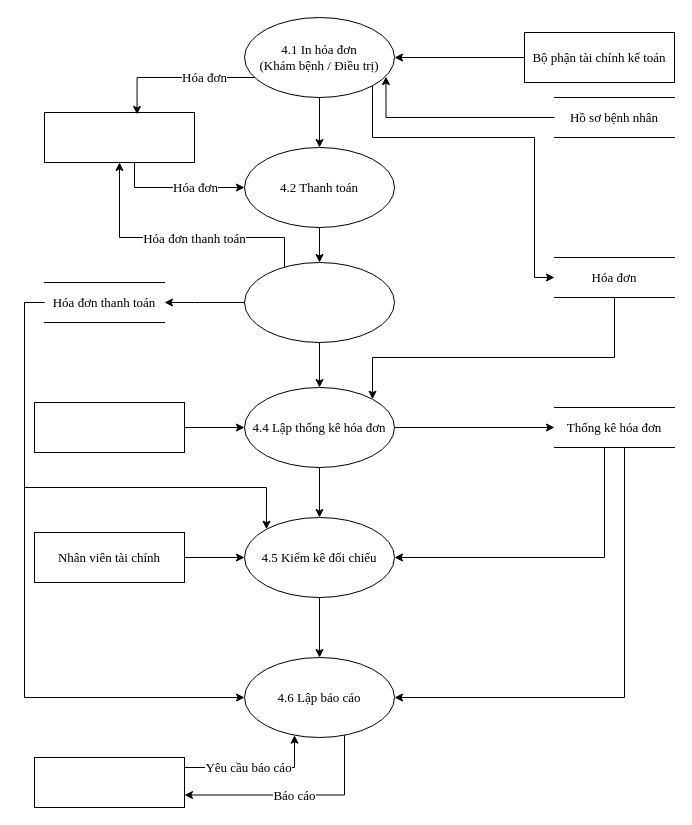
Some shapes in this 692 by 825 pixel diagram are drawn without their labels. Here are the shapes that lost their labels. From the top down, the centre of each, then its label:
the point at 119,137: Bệnh nhân
the point at 319,302: 4.3 In hóa đơn thanh toán
the point at 109,427: Nhân viên kế toán
the point at 109,782: Bang giám đốc
